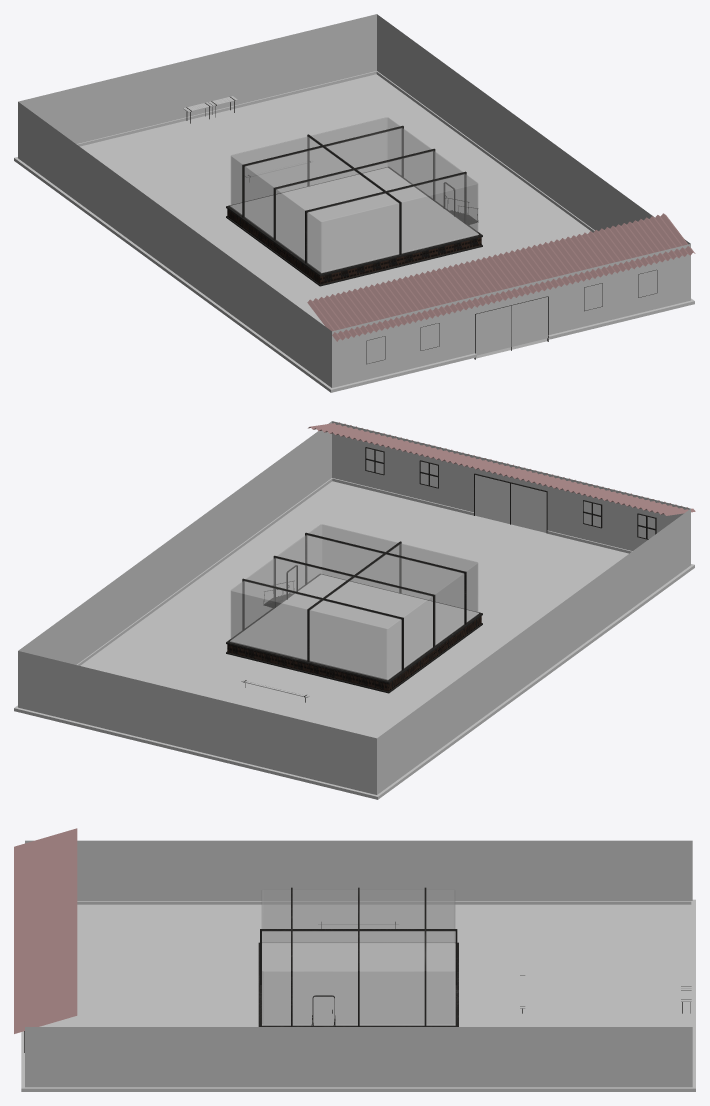
Rendered from Arena1.fbx.
3 renders of one model, top to bottom at view 1: azimuth 30°, elevation 25°; view 2: azimuth 150°, elevation 25°; view 3: azimuth 270°, elevation 25°, orthographic. The views are drawn at different scales.
Visible parts, largest first — view 1: walls, floor2, arena_glass1, arena_floor, pPlane1, floor, arena_glass_supports; view 2: walls, floor2, arena_glass1, arena_floor, floor, pPlane1, polySurface20, arena_glass_supports; view 3: walls, floor2, arena_glass1, arena_floor, pPlane1, floor, arena_glass_supports, door_handle.
Part boxes in pixels (left/top/right/bottom): walls: left=18, top=14, right=690, bottom=387; floor2: left=80, top=74, right=590, bottom=325; arena_glass1: left=231, top=117, right=477, bottom=272; arena_floor: left=226, top=167, right=482, bottom=286; pPlane1: left=307, top=213, right=695, bottom=341; floor: left=14, top=71, right=694, bottom=392; arena_glass_supports: left=242, top=125, right=466, bottom=263; walls: left=18, top=421, right=690, bottom=794; floor2: left=80, top=481, right=628, bottom=738; arena_glass1: left=231, top=524, right=477, bottom=679; arena_floor: left=226, top=574, right=482, bottom=693; floor: left=14, top=478, right=694, bottom=799; pPlane1: left=308, top=422, right=695, bottom=515; polySurface20: left=474, top=473, right=547, bottom=532; arena_glass_supports: left=242, top=532, right=466, bottom=670; walls: left=25, top=840, right=692, bottom=1087; floor2: left=39, top=904, right=691, bottom=1026; arena_glass1: left=262, top=889, right=455, bottom=1025; arena_floor: left=258, top=942, right=458, bottom=1026; pPlane1: left=14, top=828, right=77, bottom=1033; floor: left=21, top=899, right=695, bottom=1091; arena_glass_supports: left=260, top=887, right=457, bottom=1026; door_handle: left=313, top=997, right=334, bottom=1024.
Size of what is drawn, in the model's own units: 66.92 by 13.42 by 102.
